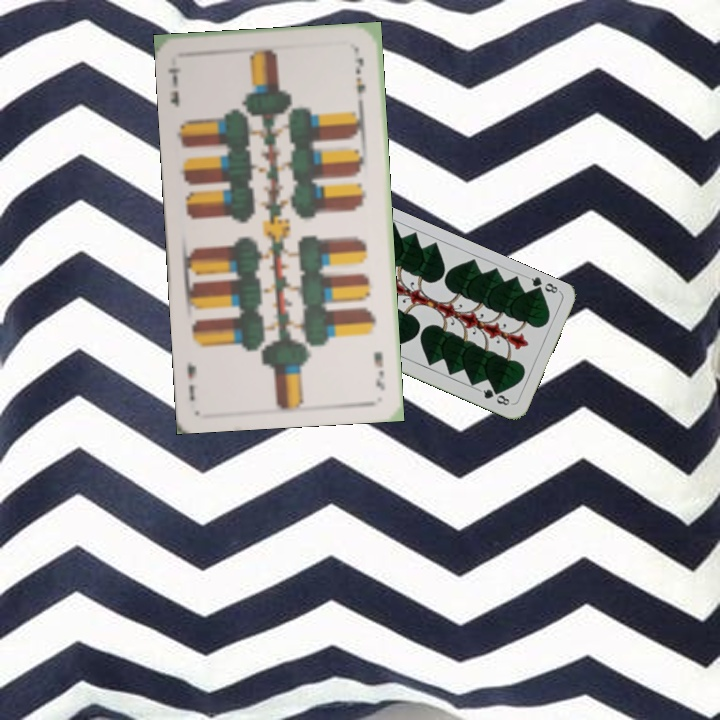E7: (164, 63, 183, 110), (370, 348, 387, 393)
G8: (523, 272, 562, 297)
